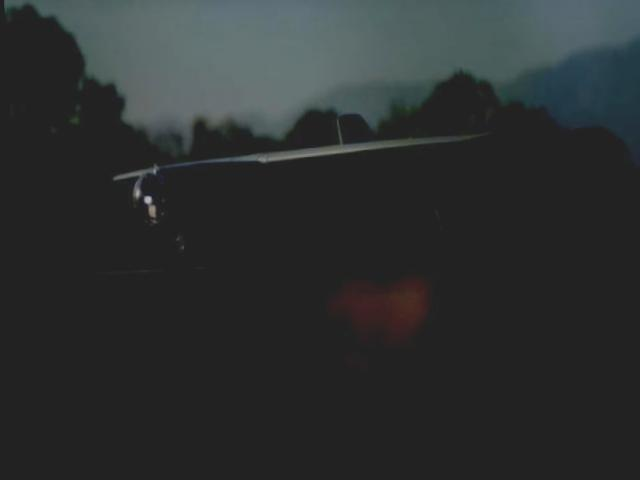iha: (98, 84, 544, 271)
